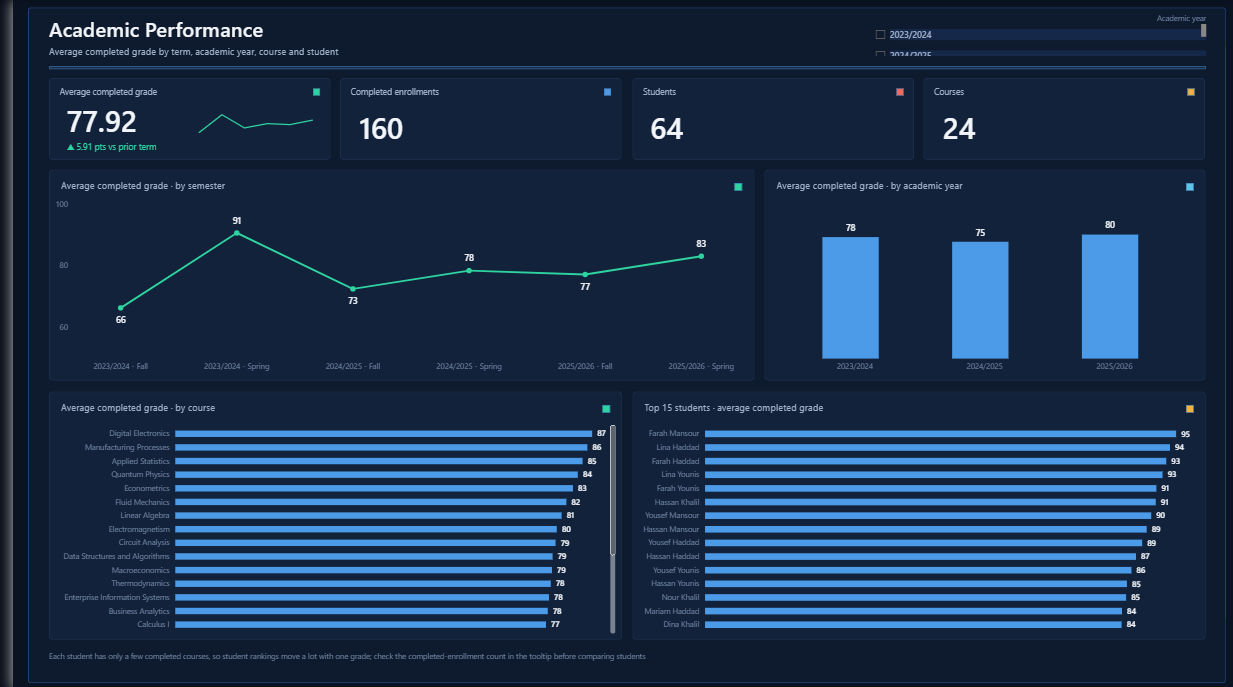

Layout of this report page (visuals, bound fields, positions):
{"tool":"powerbi","page":{"name":"Academic Performance","canvas":[1920,1080],"ordinal":2},"visuals":[{"type":"shape","box":[24,12,1872,1056],"z":100},{"type":"textbox","box":[56,24,1200,46],"z":200},{"type":"textbox","box":[56,70,1250,26],"z":300},{"type":"textbox","box":[1340,18,524,18],"z":400},{"type":"slicer","fields":{"Values":["Semester.AcademicYear"]},"box":[1340,38,524,50],"z":500},{"type":"shape","box":[56,104,1808,5],"z":600},{"type":"shape","box":[56,122,440,128],"z":700},{"type":"textbox","box":[72,134,384,22],"z":800},{"type":"shape","box":[468,139,11,11],"z":900},{"type":"cardVisual","fields":{"Data":["Enrollment.Average Completed Grade"]},"box":[68,158,206,60],"z":1000},{"type":"cardVisual","fields":{"Data":["Enrollment.KPI Delta Avg Grade"]},"box":[68,218,416,22],"z":1100},{"type":"lineChart","fields":{"Category":["Semester.Semester Label"],"Y":["Enrollment.Average Completed Grade"]},"box":[276,160,206,56],"z":1200},{"type":"shape","box":[512,122,440,128],"z":1300},{"type":"textbox","box":[528,134,384,22],"z":1400},{"type":"shape","box":[924,139,11,11],"z":1500},{"type":"cardVisual","fields":{"Data":["Enrollment.Completed Enrollments"]},"box":[524,158,412,82],"z":1600},{"type":"shape","box":[968,122,440,128],"z":1700},{"type":"textbox","box":[984,134,384,22],"z":1800},{"type":"shape","box":[1380,139,11,11],"z":1900},{"type":"cardVisual","fields":{"Data":["Student.Total Students"]},"box":[980,158,412,82],"z":2000},{"type":"shape","box":[1424,122,440,128],"z":2100},{"type":"textbox","box":[1440,134,384,22],"z":2200},{"type":"shape","box":[1836,139,11,11],"z":2300},{"type":"cardVisual","fields":{"Data":["Course.Total Courses"]},"box":[1436,158,412,82],"z":2400},{"type":"shape","box":[56,266,1102.8,330],"z":2500},{"type":"textbox","box":[74,280,1032.8,24],"z":2600},{"type":"shape","box":[1128.8,286,12,12],"z":2700},{"type":"lineChart","fields":{"Category":["Semester.Semester Label"],"Y":["Enrollment.Average Completed Grade"]},"box":[66,310,1082.8,276],"z":2800},{"type":"shape","box":[1174.8,266,689.2,330],"z":2900},{"type":"textbox","box":[1192.8,280,619.2,24],"z":3000},{"type":"shape","box":[1834,286,12,12],"z":3100},{"type":"clusteredColumnChart","fields":{"Category":["Semester.AcademicYear"],"Y":["Enrollment.Average Completed Grade"]},"box":[1184.8,310,669.2,276],"z":3200},{"type":"shape","box":[56,612,896,388],"z":3300},{"type":"textbox","box":[74,626,826,24],"z":3400},{"type":"shape","box":[922,632,12,12],"z":3500},{"type":"clusteredBarChart","fields":{"Category":["Course.CourseTitle"],"Y":["Enrollment.Average Completed Grade"]},"box":[66,656,876,334],"z":3600},{"type":"shape","box":[968,612,896,388],"z":3700},{"type":"textbox","box":[986,626,826,24],"z":3800},{"type":"shape","box":[1834,632,12,12],"z":3900},{"type":"clusteredBarChart","fields":{"Category":["Student.Name"],"Y":["Enrollment.Average Completed Grade"]},"box":[978,656,876,334],"z":4000},{"type":"textbox","box":[56,1014,1400,24],"z":4100}]}

Visuals, with their boxes in screenshot pixels (x1, y1, x2, y2), scaled from the page's 1920x1080 canvas onto the 1233x687 screenshot:
shape: <region>15, 8, 1218, 679</region>
textbox: <region>36, 15, 807, 45</region>
textbox: <region>36, 45, 839, 61</region>
textbox: <region>861, 11, 1197, 23</region>
slicer - Semester.AcademicYear: <region>861, 24, 1197, 56</region>
shape: <region>36, 66, 1197, 69</region>
shape: <region>36, 78, 319, 159</region>
textbox: <region>46, 85, 293, 99</region>
shape: <region>301, 88, 308, 95</region>
cardVisual - Enrollment.Average Completed Grade: <region>44, 101, 176, 139</region>
cardVisual - Enrollment.KPI Delta Avg Grade: <region>44, 139, 311, 153</region>
lineChart - Semester.Semester Label x Enrollment.Average Completed Grade: <region>177, 102, 310, 137</region>
shape: <region>329, 78, 611, 159</region>
textbox: <region>339, 85, 586, 99</region>
shape: <region>593, 88, 600, 95</region>
cardVisual - Enrollment.Completed Enrollments: <region>337, 101, 601, 153</region>
shape: <region>622, 78, 904, 159</region>
textbox: <region>632, 85, 879, 99</region>
shape: <region>886, 88, 893, 95</region>
cardVisual - Student.Total Students: <region>629, 101, 894, 153</region>
shape: <region>914, 78, 1197, 159</region>
textbox: <region>925, 85, 1171, 99</region>
shape: <region>1179, 88, 1186, 95</region>
cardVisual - Course.Total Courses: <region>922, 101, 1187, 153</region>
shape: <region>36, 169, 744, 379</region>
textbox: <region>48, 178, 711, 193</region>
shape: <region>725, 182, 733, 190</region>
lineChart - Semester.Semester Label x Enrollment.Average Completed Grade: <region>42, 197, 738, 373</region>
shape: <region>754, 169, 1197, 379</region>
textbox: <region>766, 178, 1164, 193</region>
shape: <region>1178, 182, 1185, 190</region>
clusteredColumnChart - Semester.AcademicYear x Enrollment.Average Completed Grade: <region>761, 197, 1191, 373</region>
shape: <region>36, 389, 611, 636</region>
textbox: <region>48, 398, 578, 413</region>
shape: <region>592, 402, 600, 410</region>
clusteredBarChart - Course.CourseTitle x Enrollment.Average Completed Grade: <region>42, 417, 605, 630</region>
shape: <region>622, 389, 1197, 636</region>
textbox: <region>633, 398, 1164, 413</region>
shape: <region>1178, 402, 1185, 410</region>
clusteredBarChart - Student.Name x Enrollment.Average Completed Grade: <region>628, 417, 1191, 630</region>
textbox: <region>36, 645, 935, 660</region>
